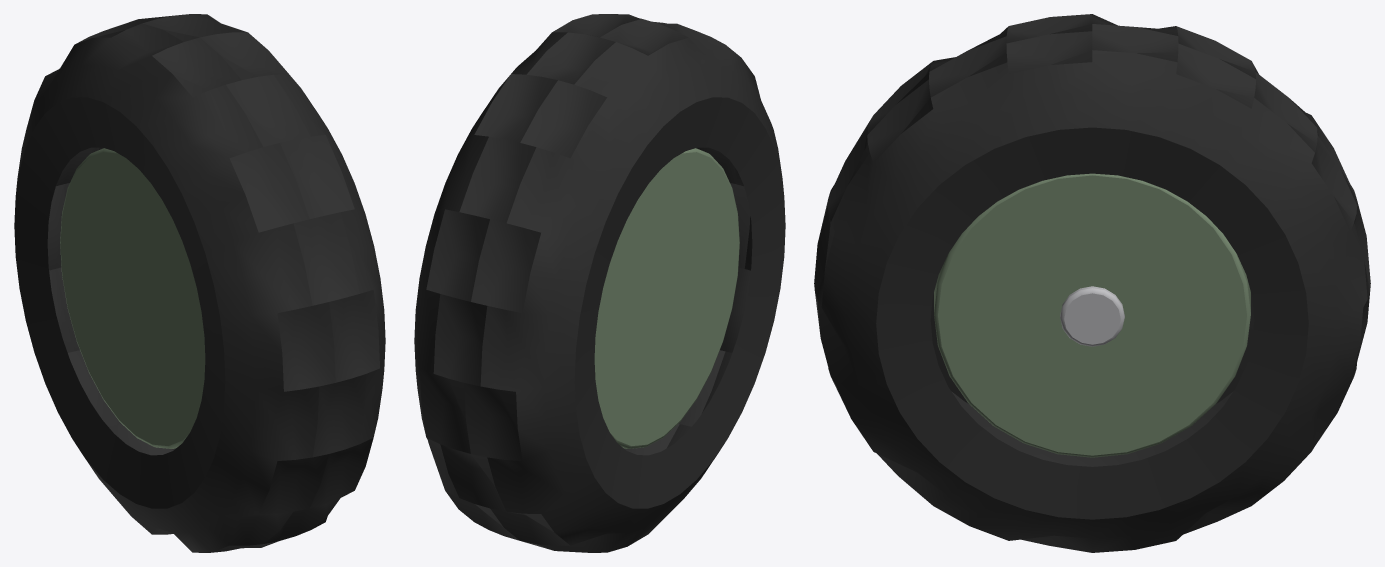
Rendered from wheel_offroad.glb.
3 views of the same model, side by side, from view 1: azimuth 30°, elevation 25°; view 2: azimuth 150°, elevation 25°; view 3: azimuth 270°, elevation 25° (orthographic). The views are drawn at different scales.
Visible parts, largest first — view 1: wheel_offroad; view 2: wheel_offroad; view 3: wheel_offroad.
Boxes of the visible parts, x1=… form: wheel_offroad: x1=14, y1=14, x2=385, y2=552; wheel_offroad: x1=414, y1=14, x2=785, y2=552; wheel_offroad: x1=814, y1=14, x2=1370, y2=552.
Bounding box in the file's own units: 0.24 × 0.704 × 0.704.
